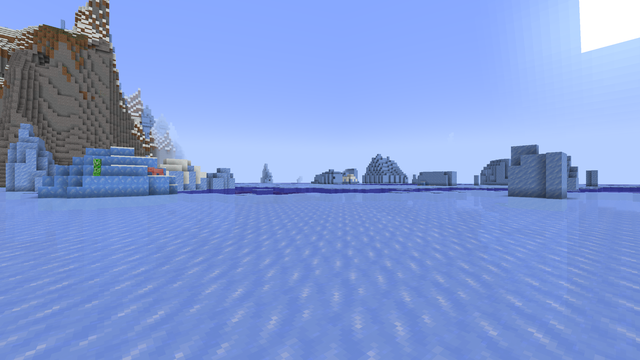cochons: (152, 168, 162, 174)
creepers: (93, 157, 101, 170)
